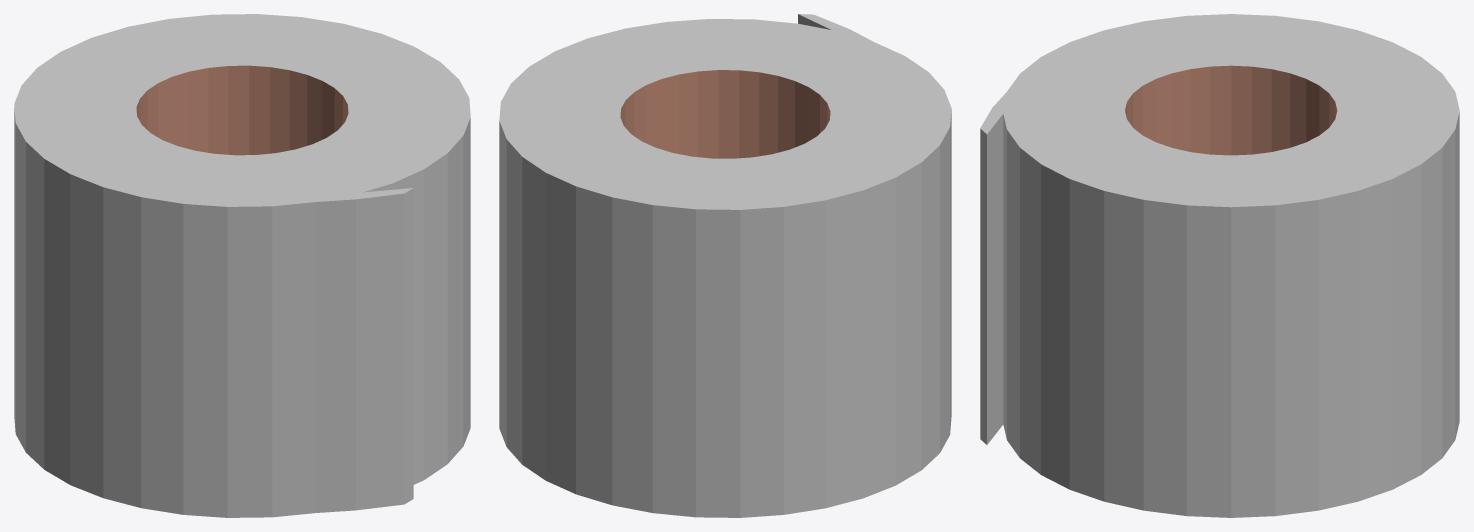
Rendered from rulla_GJ22.fbx.
The picture shows the model from 3 angles, left to right: view 1: azimuth 30°, elevation 25°; view 2: azimuth 150°, elevation 25°; view 3: azimuth 270°, elevation 25°; orthographic projection.
Visible parts, largest first — view 1: Cylinder; view 2: Cylinder; view 3: Cylinder.
Boxes of the visible parts, x1,y1,x2,y2 form: Cylinder: [14, 14, 470, 517]; Cylinder: [499, 14, 951, 517]; Cylinder: [980, 14, 1459, 517].
Bounding box in the file's own units: 20 × 15 × 20.98.
